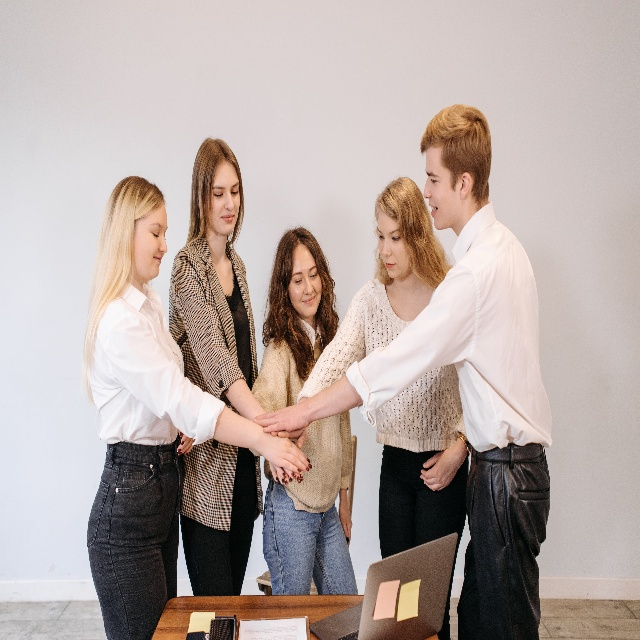Sin_guantes: (252, 401, 310, 448), (257, 428, 312, 475), (421, 445, 469, 491), (268, 458, 305, 490), (272, 425, 307, 448), (339, 489, 352, 544), (175, 427, 192, 457)
